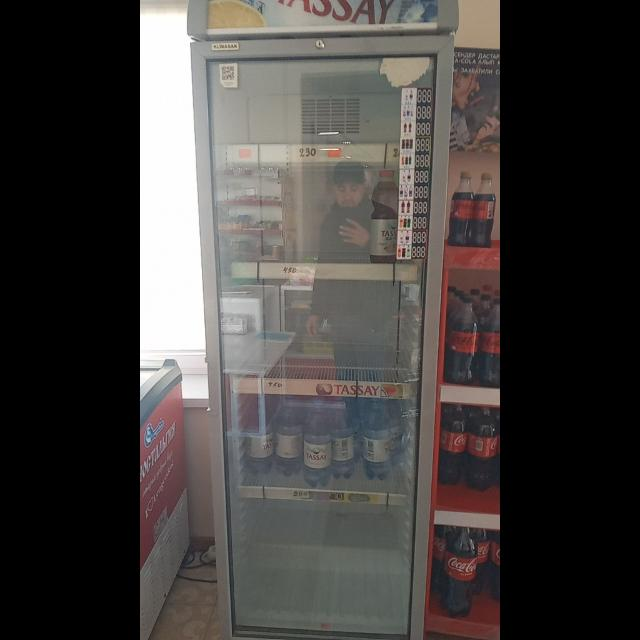Cooling-Display: (186, 1, 458, 640)
